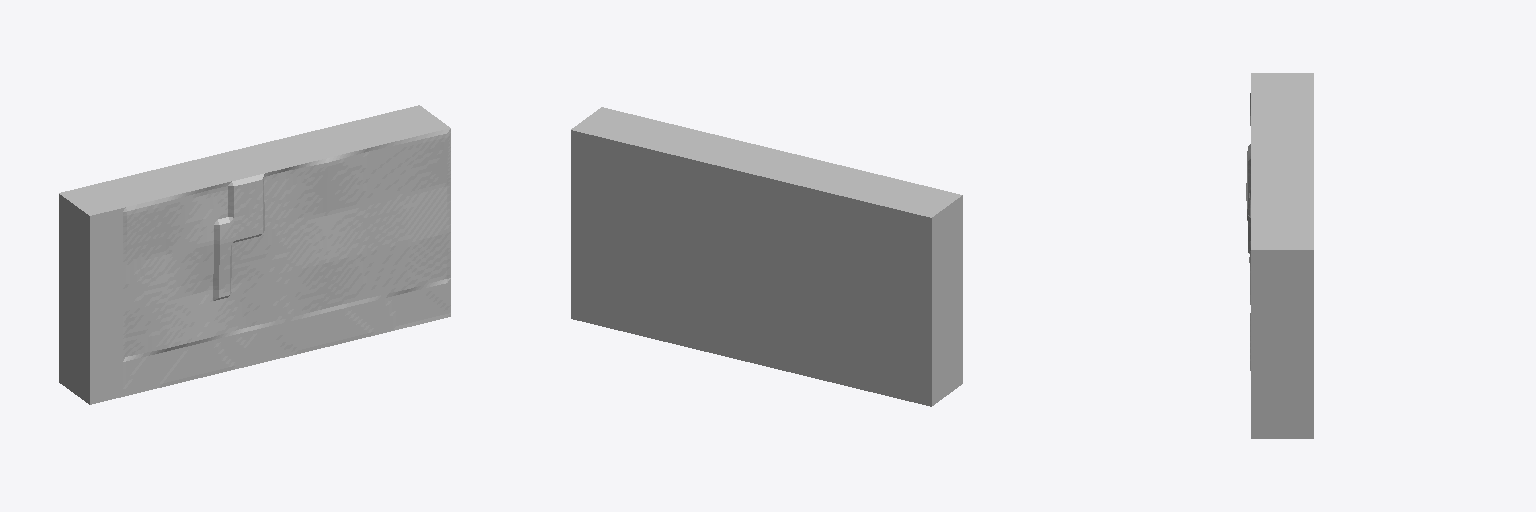
File: rectangular_prism_bumps_0_6.obj
3 renders of one model, left to right at view 1: azimuth 30°, elevation 25°; view 2: azimuth 150°, elevation 25°; view 3: azimuth 270°, elevation 25°, orthographic.
Size of the model in its own units: 10 by 5 by 1.62.